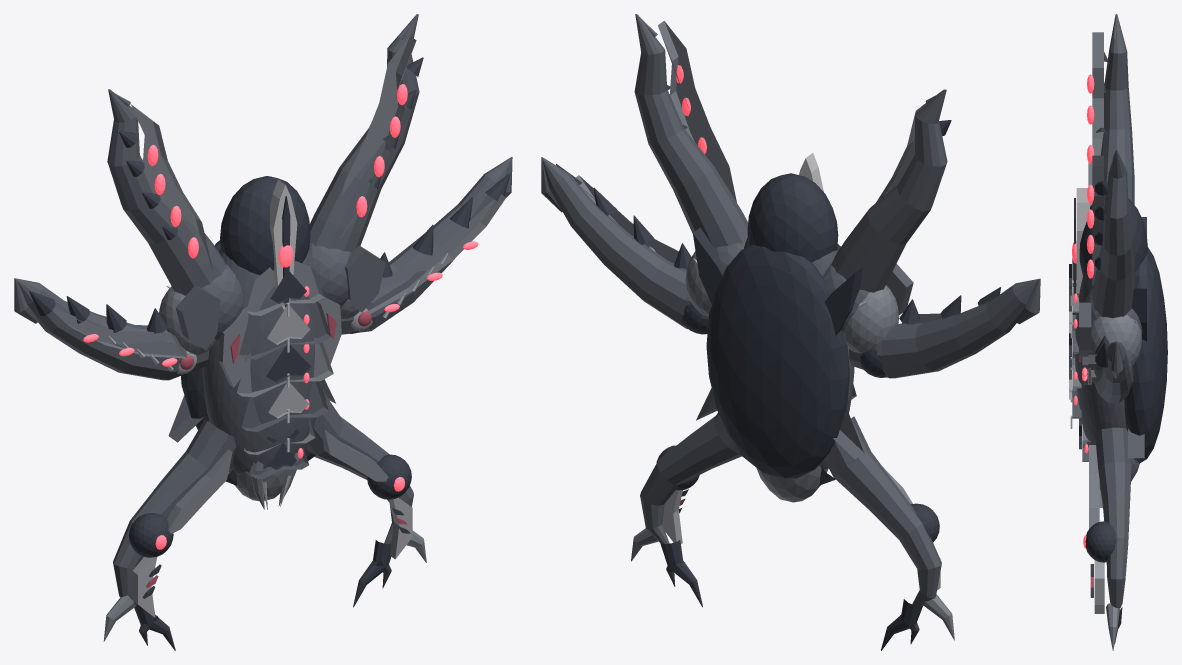
The model's file is boss-01.glb.
The picture shows the model from 3 angles, left to right: view 1: azimuth 30°, elevation 25°; view 2: azimuth 150°, elevation 25°; view 3: azimuth 270°, elevation 25°; orthographic projection. The views are drawn at different scales.
Parts seen in each view (by area): view 1: Central thorax_000, Upper crescent limb_022, Upper crescent limb_063, Lateral hooked arm_032, Upper crown_001, Lower segmented leg_046, Lateral hooked arm_073, Upper horn armor plate_064, Lower segmented leg_087, Lateral armor panel_074, Upper horn armor plate_023, Shoulder scythe guard_021 (+24 smaller); view 2: Rear carapace_003, Upper crescent limb_063, Upper crescent limb_022, Lateral hooked arm_032, Lateral hooked arm_073, Lower segmented leg_046, Upper crown_001, Lower segmented leg_087, Upper horn armor plate_064, Shoulder outer shell_019, Lower abdomen_002, Back dorsal fin_103 (+9 smaller); view 3: Rear carapace_003, Upper crescent limb_063, Lower segmented leg_087, Upper crescent limb_022, Central thorax_000, Lateral hooked arm_073, Shoulder outer shell_060, Upper horn armor plate_023, Upper crown_001, Knee socket_089, Upper horn armor plate_064, Central blade ridge_016 (+14 smaller).
Boxes of the visible parts, bbox=[...] form: Central thorax_000: bbox=[202, 242, 324, 473]; Upper crescent limb_022: bbox=[107, 89, 227, 295]; Upper crescent limb_063: bbox=[309, 14, 419, 252]; Lateral hooked arm_032: bbox=[14, 278, 208, 380]; Upper crown_001: bbox=[220, 176, 310, 275]; Lower segmented leg_046: bbox=[113, 417, 236, 605]; Lateral hooked arm_073: bbox=[341, 157, 512, 334]; Upper horn armor plate_064: bbox=[339, 36, 416, 238]; Lower segmented leg_087: bbox=[306, 392, 413, 544]; Lateral armor panel_074: bbox=[367, 194, 505, 313]; Upper horn armor plate_023: bbox=[130, 104, 212, 269]; Shoulder scythe guard_021: bbox=[175, 285, 220, 350]; Rear carapace_003: bbox=[706, 244, 849, 478]; Upper crescent limb_063: bbox=[634, 14, 748, 248]; Upper crescent limb_022: bbox=[831, 89, 947, 292]; Lateral hooked arm_032: bbox=[849, 278, 1040, 378]; Lateral hooked arm_073: bbox=[541, 157, 708, 329]; Lower segmented leg_046: bbox=[825, 416, 941, 606]; Upper crown_001: bbox=[747, 173, 838, 262]; Lower segmented leg_087: bbox=[640, 413, 741, 543]; Upper horn armor plate_064: bbox=[658, 21, 736, 202]; Shoulder outer shell_019: bbox=[842, 285, 899, 353]; Lower abdomen_002: bbox=[756, 465, 828, 502]; Back dorsal fin_103: bbox=[693, 228, 723, 305]; Rear carapace_003: bbox=[1124, 247, 1167, 463]; Upper crescent limb_063: bbox=[1092, 150, 1134, 318]; Lower segmented leg_087: bbox=[1095, 427, 1131, 608]; Upper crescent limb_022: bbox=[1100, 14, 1134, 204]; Central thorax_000: bbox=[1075, 276, 1126, 447]; Lateral hooked arm_073: bbox=[1093, 341, 1132, 403]; Shoulder outer shell_060: bbox=[1091, 315, 1141, 365]; Upper horn armor plate_023: bbox=[1092, 32, 1103, 155]; Upper crown_001: bbox=[1079, 194, 1147, 278]; Knee socket_089: bbox=[1085, 521, 1115, 562]; Upper horn armor plate_064: bbox=[1092, 155, 1103, 285]; Central blade ridge_016: bbox=[1076, 188, 1089, 296].
Size of the model in its own units: 6.27 by 6.93 by 1.19.
